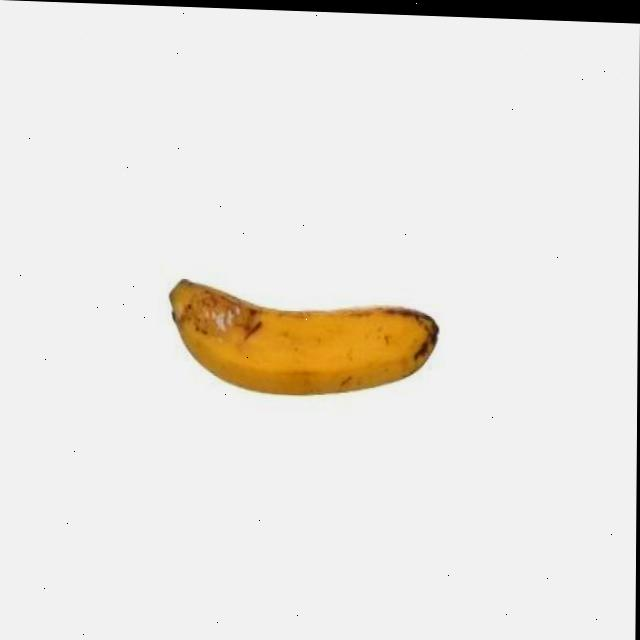banana: (161, 272, 445, 407)
